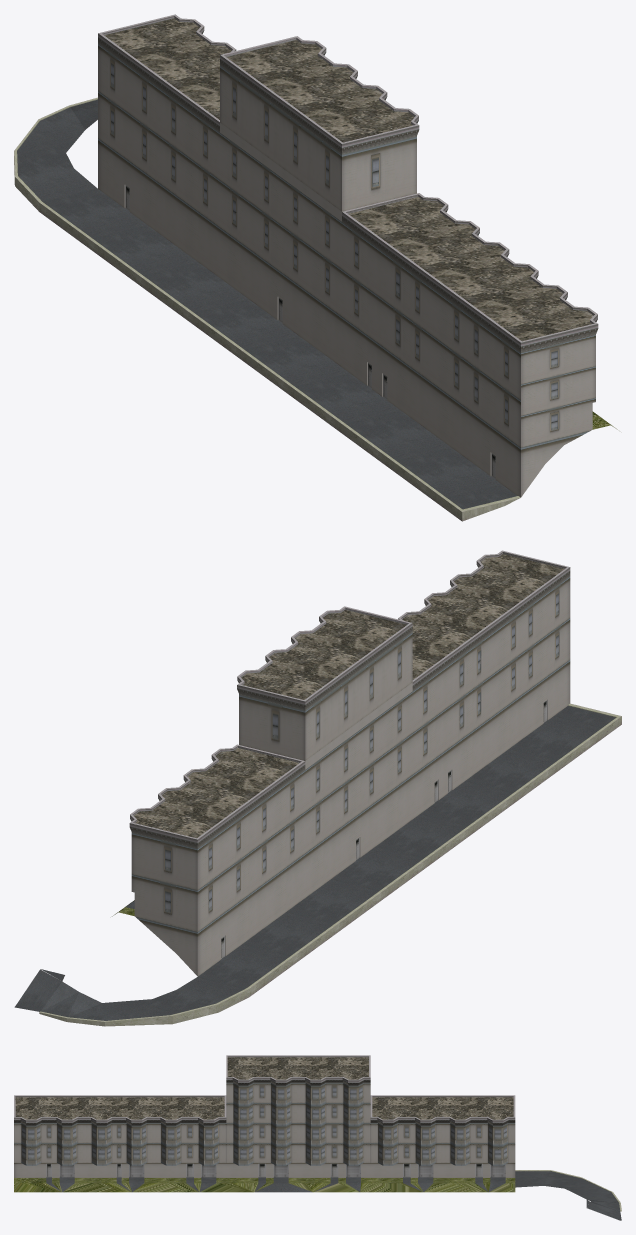
File: bigvic_a1.obj
3 renders of one model, top to bottom at view 1: azimuth 30°, elevation 25°; view 2: azimuth 150°, elevation 25°; view 3: azimuth 270°, elevation 25°, orthographic. The views are drawn at different scales.
Parts seen in each view (by area): view 1: bigvic_a1; view 2: bigvic_a1; view 3: bigvic_a1.
Part boxes in pixels (x1,y1,x2,y2): bigvic_a1: [14, 14, 617, 521]; bigvic_a1: [14, 550, 621, 1026]; bigvic_a1: [14, 1055, 621, 1220].
Bounding box in the file's own units: 30.84 × 38.49 × 154.
Materials: 12 (12 with a texture image).
